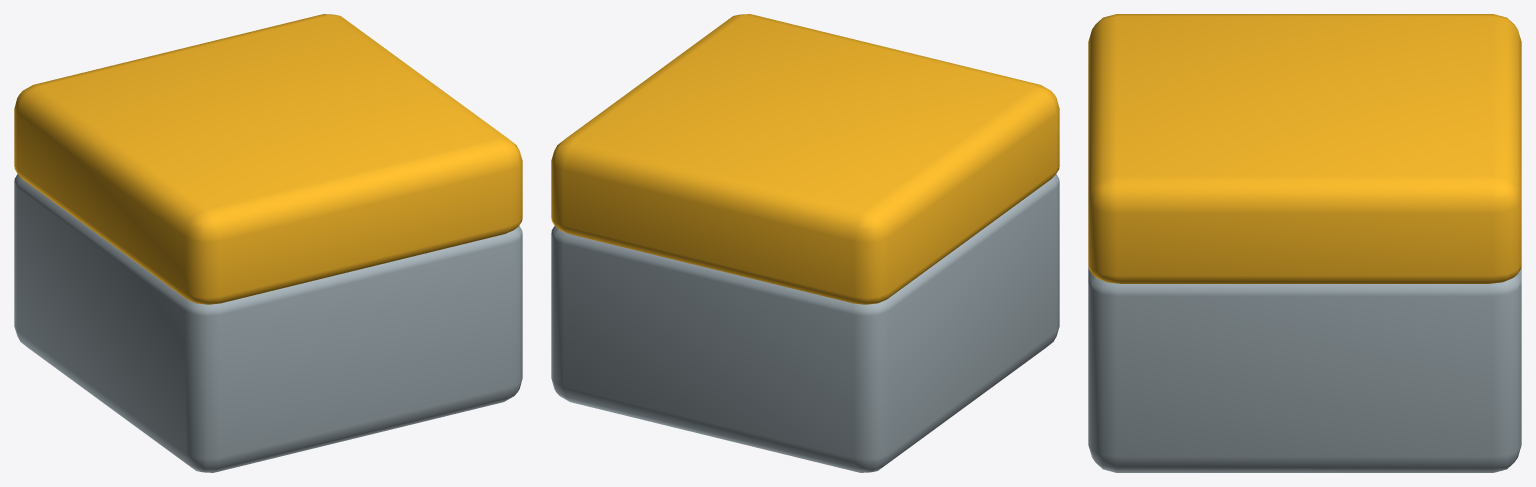
Rendered from tileMedium_teamYellow-col.glb.
3 renders of one model, left to right at view 1: azimuth 30°, elevation 25°; view 2: azimuth 150°, elevation 25°; view 3: azimuth 270°, elevation 25°, orthographic. The views are drawn at different scales.
Visible parts, largest first — view 1: tileMedium_teamYellow-col; view 2: tileMedium_teamYellow-col; view 3: tileMedium_teamYellow-col.
Part boxes in pixels (x1,y1,x2,y2): tileMedium_teamYellow-col: (14,14,522,472); tileMedium_teamYellow-col: (551,14,1059,472); tileMedium_teamYellow-col: (1088,14,1521,472).
Size of the model in its own units: 2 by 1.5 by 2.
